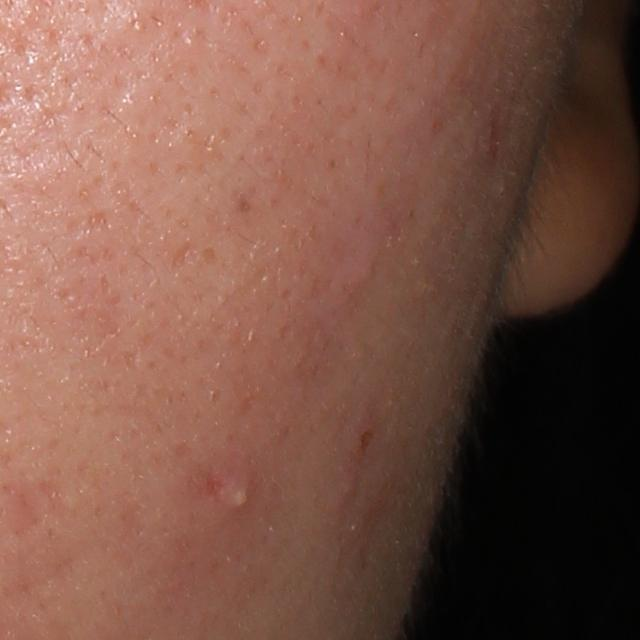atrophic_scar: (170, 235, 195, 273)
pustule: (226, 478, 259, 516)
